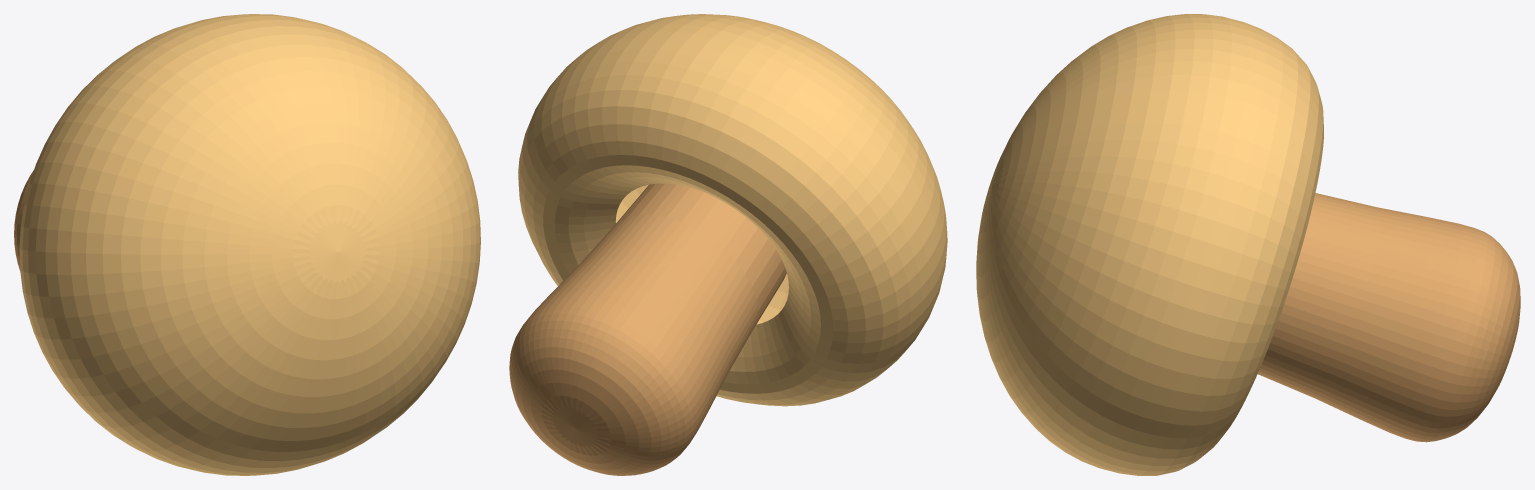
Rendered from champignon.glb.
3 renders of one model, left to right at view 1: azimuth 30°, elevation 25°; view 2: azimuth 150°, elevation 25°; view 3: azimuth 270°, elevation 25°, orthographic. The views are drawn at different scales.
Visible parts, largest first — view 1: Sphere.008; view 2: Sphere.008; view 3: Sphere.008.
Boxes of the visible parts, x1,y1,x2,y2 form: Sphere.008: (14, 14, 480, 475); Sphere.008: (509, 14, 947, 475); Sphere.008: (976, 14, 1520, 475).
Bounding box in the file's own units: 1.57 × 1.46 × 1.74.
